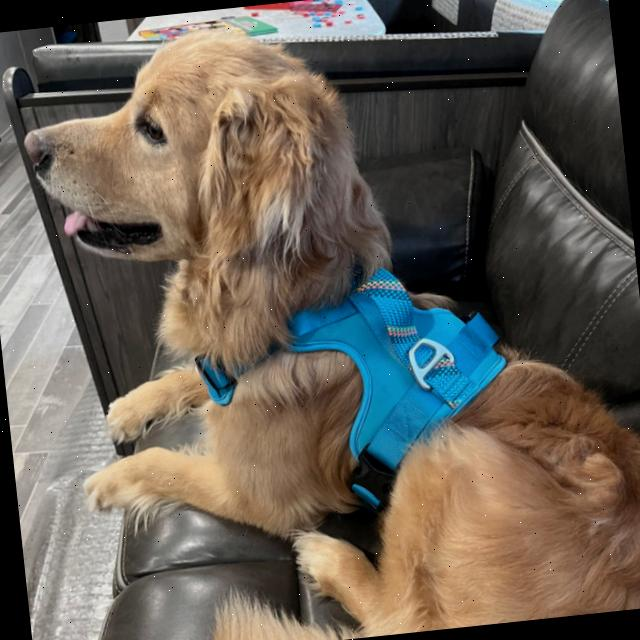golden_retriever_dog: (6, 10, 374, 346)
